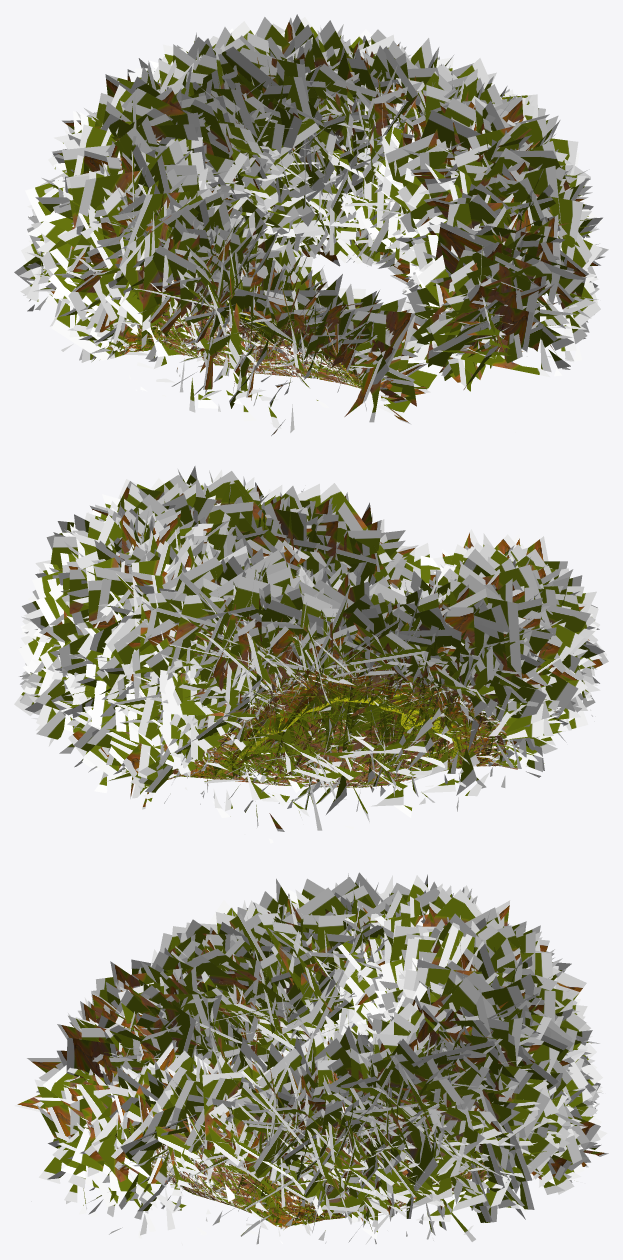
The model's file is Nest.fbx.
3 views of the same model, one above another, from view 1: azimuth 30°, elevation 25°; view 2: azimuth 150°, elevation 25°; view 3: azimuth 270°, elevation 25° (orthographic).
Visible parts, largest first — view 1: tree_nest_lp; view 2: tree_nest_lp; view 3: tree_nest_lp.
Part boxes in pixels (x1,y1,x2,y2): tree_nest_lp: [14, 14, 608, 435]; tree_nest_lp: [14, 466, 608, 843]; tree_nest_lp: [14, 872, 608, 1245].
Bounding box in the file's own units: 20.97 × 21.4 × 9.81.
